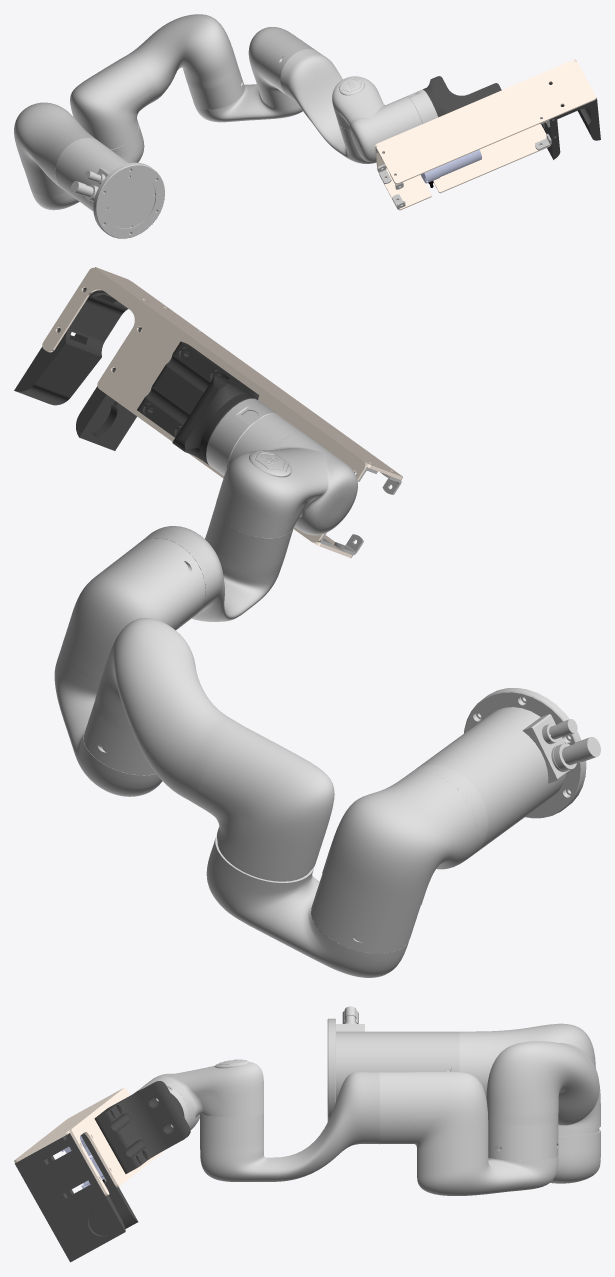
The model's file is arm.obj.
3 renders of one model, top to bottom at view 1: azimuth 30°, elevation 25°; view 2: azimuth 150°, elevation 25°; view 3: azimuth 270°, elevation 25°, orthographic. The views are drawn at different scales.
Parts seen in each view (by area): view 1: mesh1107, mesh302, mesh1136, mesh294, mesh146, mesh746, mesh196, mesh296, mesh180, mesh325, mesh663, mesh287 (+26 smaller); view 2: mesh302, mesh1075, mesh297, mesh746, mesh146, mesh9, mesh747, mesh10, mesh735, mesh358, mesh1107, mesh873 (+30 smaller); view 3: mesh24, mesh146, mesh295, mesh747, mesh873, mesh668, mesh287, mesh356, mesh932, mesh10, mesh1075, mesh297 (+33 smaller).
Part boxes in pixels (box(x1,y1,x2,y2)): mesh1107: box(376, 61, 595, 183); mesh302: box(70, 58, 147, 145); mesh1136: box(384, 124, 546, 209); mesh294: box(179, 20, 234, 79); mesh146: box(55, 138, 128, 211); mesh746: box(14, 106, 66, 181); mesh196: box(105, 174, 155, 228); mesh296: box(135, 21, 192, 99); mesh180: box(96, 165, 164, 238); mesh325: box(350, 104, 402, 161); mesh663: box(289, 69, 343, 151); mesh287: box(187, 66, 244, 109); mesh302: box(201, 725, 334, 873); mesh1075: box(42, 267, 365, 542); mesh297: box(117, 634, 221, 798); mesh746: box(355, 780, 476, 898); mesh146: box(415, 707, 566, 852); mesh9: box(237, 872, 336, 953); mesh747: box(328, 773, 444, 878); mesh10: box(206, 841, 408, 977); mesh735: box(311, 875, 420, 953); mesh358: box(237, 453, 327, 521); mesh1107: box(95, 267, 402, 476); mesh873: box(119, 538, 205, 629); mesh24: box(14, 1133, 125, 1262); mesh146: box(336, 1031, 459, 1100); mesh295: box(496, 1041, 579, 1111); mesh747: box(477, 1024, 595, 1099); mesh873: box(379, 1072, 415, 1143); mesh668: box(271, 1072, 358, 1179); mesh287: box(488, 1122, 558, 1160); mesh356: box(164, 1062, 263, 1104); mesh932: box(438, 1159, 513, 1195); mesh10: box(550, 1134, 600, 1183); mesh1075: box(71, 1087, 161, 1194); mesh297: box(537, 1041, 599, 1125).
Size of what is drawn, in the model's own units: 0.7727 by 0.34 by 0.6889.
